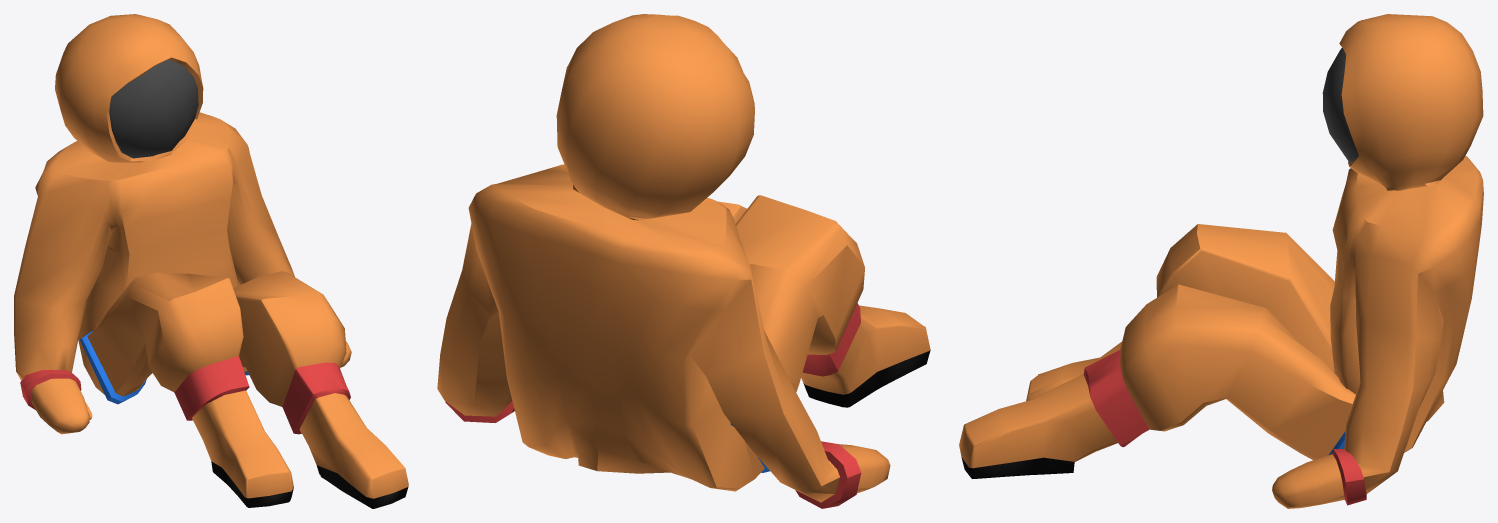
File: Astronaut_Custom.fbx
3 views of the same model, side by side, from view 1: azimuth 30°, elevation 25°; view 2: azimuth 150°, elevation 25°; view 3: azimuth 270°, elevation 25° (orthographic). The views are drawn at different scales.
Visible parts, largest first — view 1: Astronaut.001; view 2: Astronaut.001; view 3: Astronaut.001.
Part boxes in pixels (bbox=[...]): Astronaut.001: bbox=[14, 14, 408, 508]; Astronaut.001: bbox=[437, 14, 930, 508]; Astronaut.001: bbox=[959, 14, 1483, 508].
Bounding box in the file's own units: 1.17 × 1.32 × 1.52.
